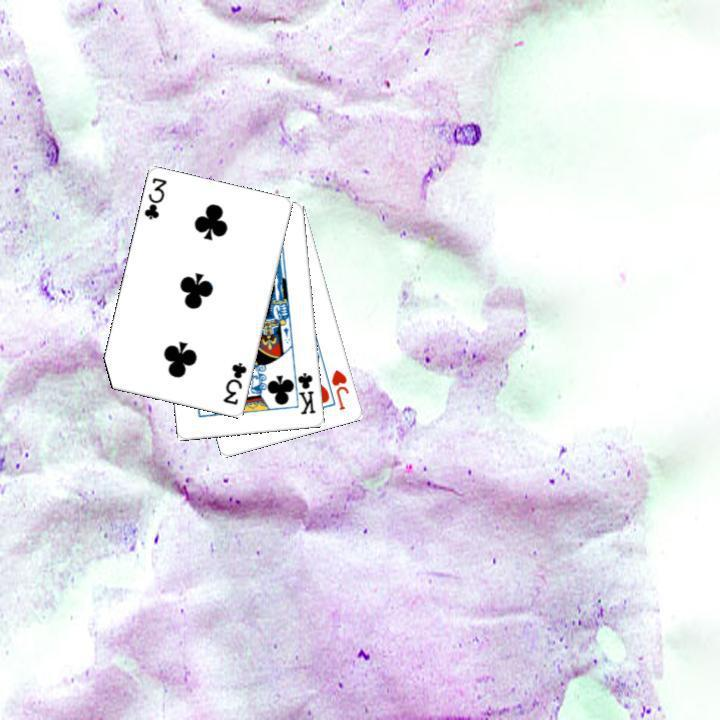3: (219, 358, 249, 407), (140, 173, 169, 222)
J: (327, 365, 351, 412)
K: (289, 365, 318, 416)
